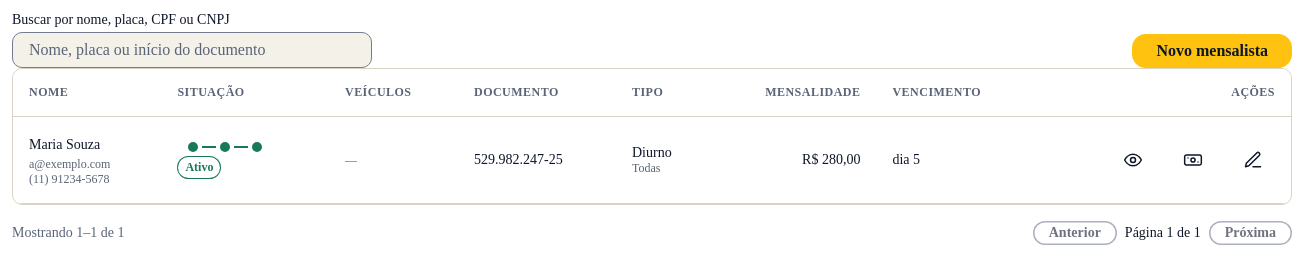
Test: MensalistasList: busca por nome e placa › documento continua sendo buscado no servidor, com máscara, sem carregar o conjunto completo
Expected: the button "Maria Souza" is shown, x1=29 y1=133 x2=100 y2=157
Type "529982" into the field labelled "Buscar por nome, placa, CPF ou CNPJ" at (192, 50), box x1=12 y1=32 x2=372 y2=68
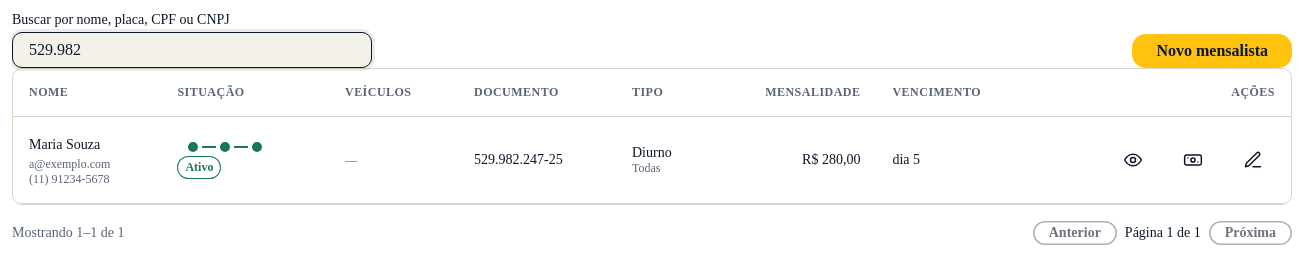
Result: the field labelled "Buscar por nome, placa, CPF ou CNPJ" holds "529.982" at x1=12 y1=32 x2=372 y2=68
